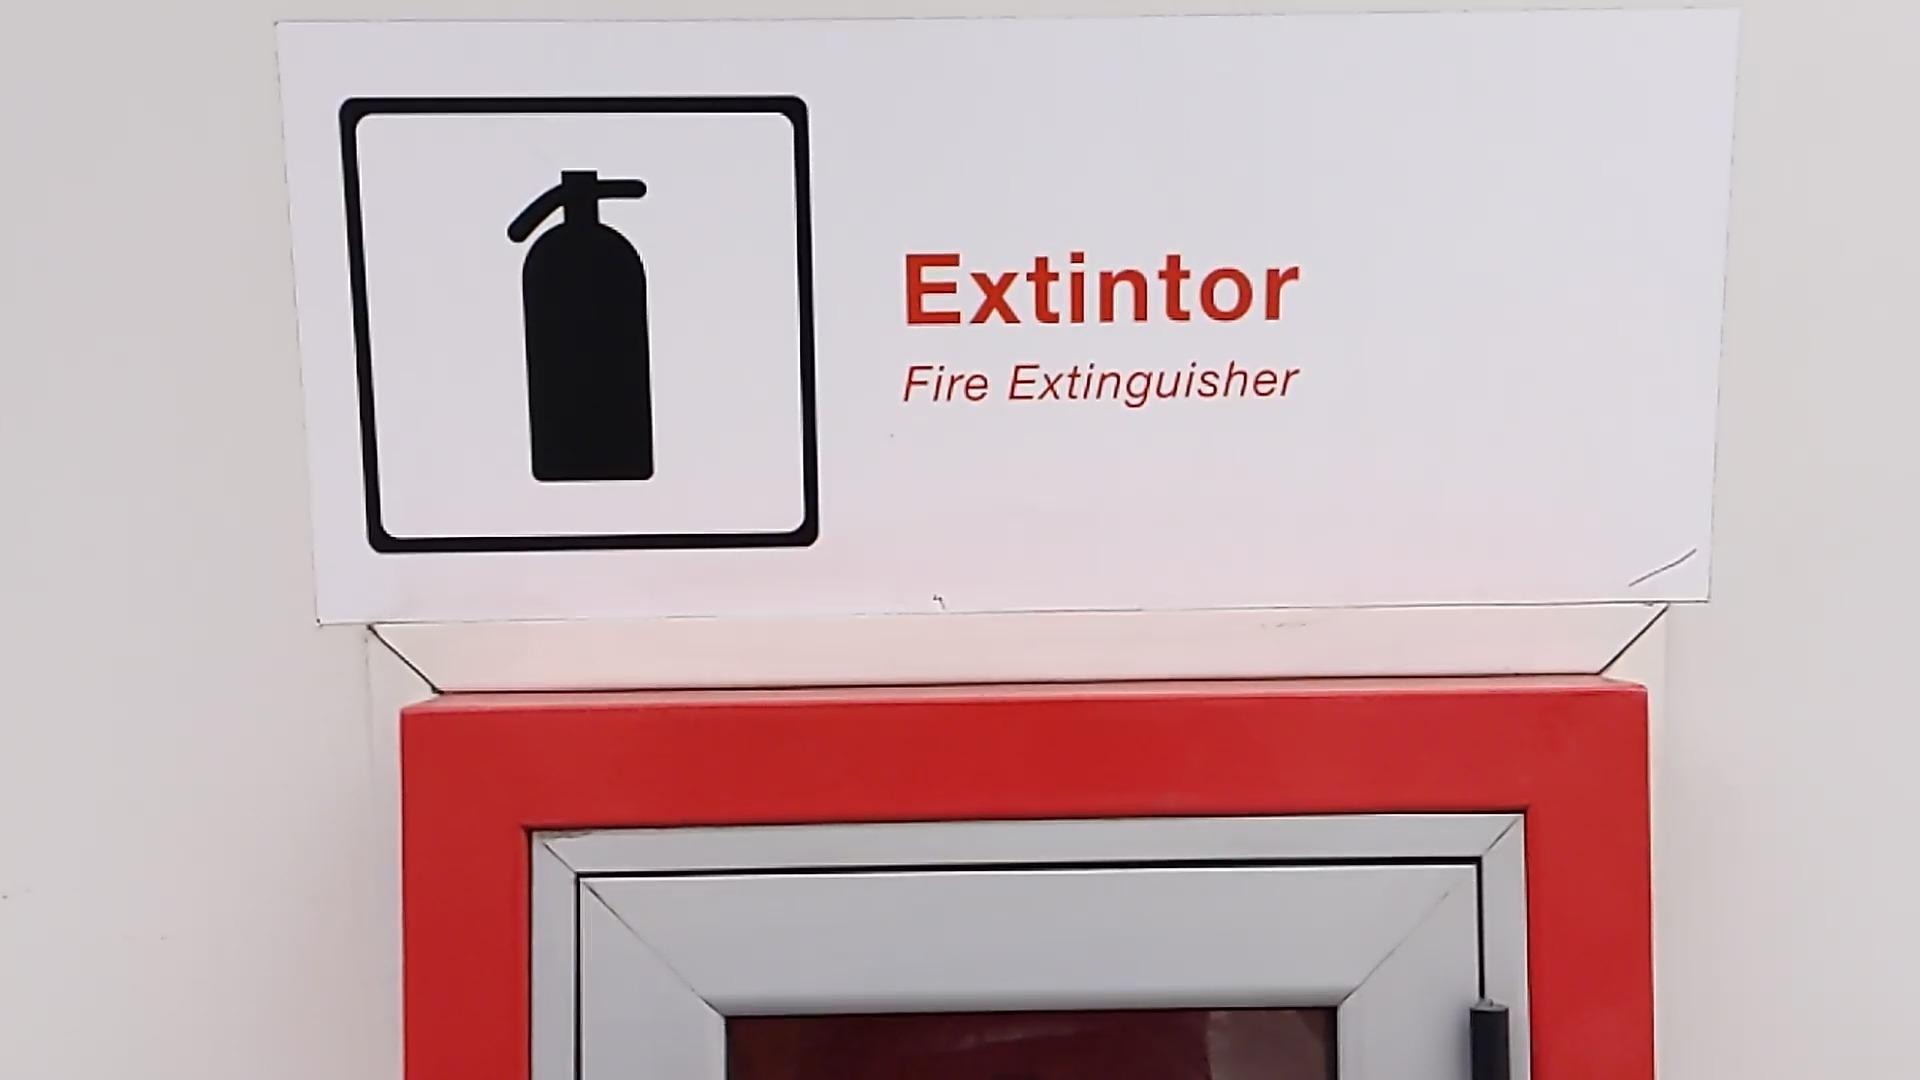extinguisher symbol: (504, 162, 666, 491)
